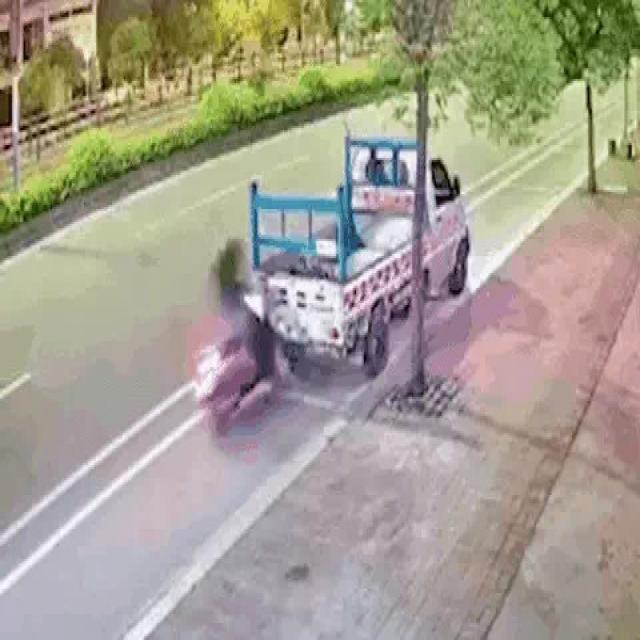multiple_accident: (190, 120, 474, 442)
